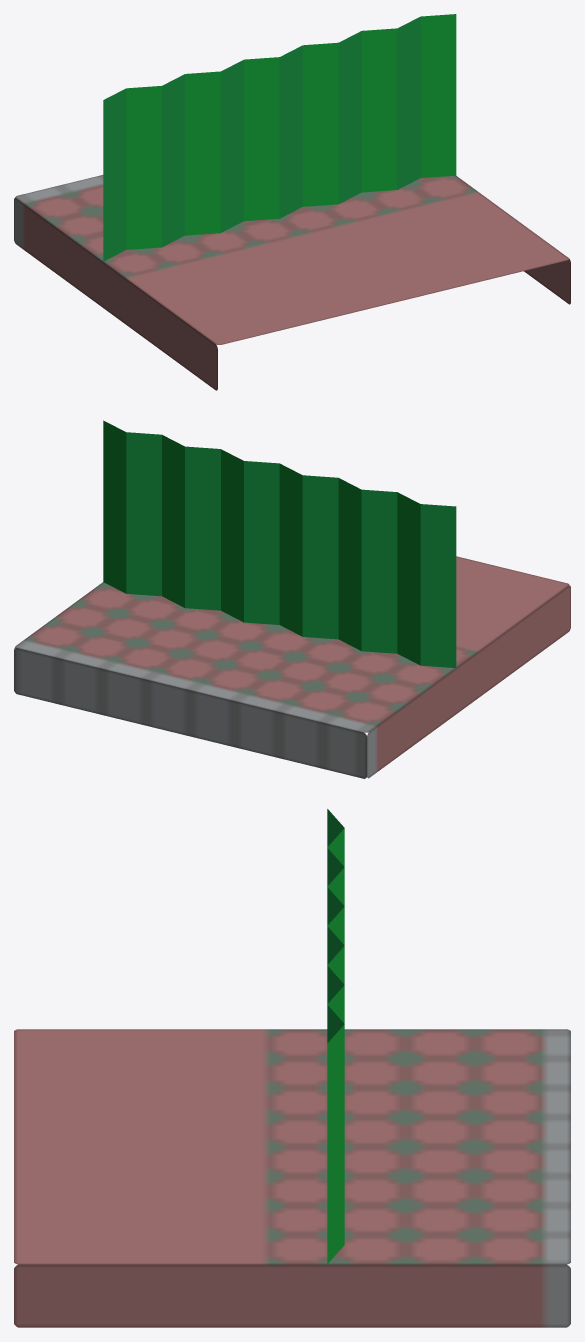
File: Metal Sheet Wall.fbx
The picture shows the model from 3 angles, top to bottom: view 1: azimuth 30°, elevation 25°; view 2: azimuth 150°, elevation 25°; view 3: azimuth 270°, elevation 25°; orthographic projection. The views are drawn at different scales.
Parts seen in each view (by area): view 1: plane, SideRoad; view 2: SideRoad, plane; view 3: SideRoad, plane.
Boxes of the visible parts, x1=… form: plane: x1=103, y1=14, x2=456, y2=261; SideRoad: x1=14, y1=175, x2=570, y2=390; SideRoad: x1=14, y1=556, x2=570, y2=778; plane: x1=103, y1=420, x2=456, y2=667; SideRoad: x1=14, y1=1029, x2=570, y2=1327; plane: x1=327, y1=809, x2=344, y2=1263.
Size of the model in its own units: 200 by 112 by 200.
Materials: 2 (2 with a texture image).
